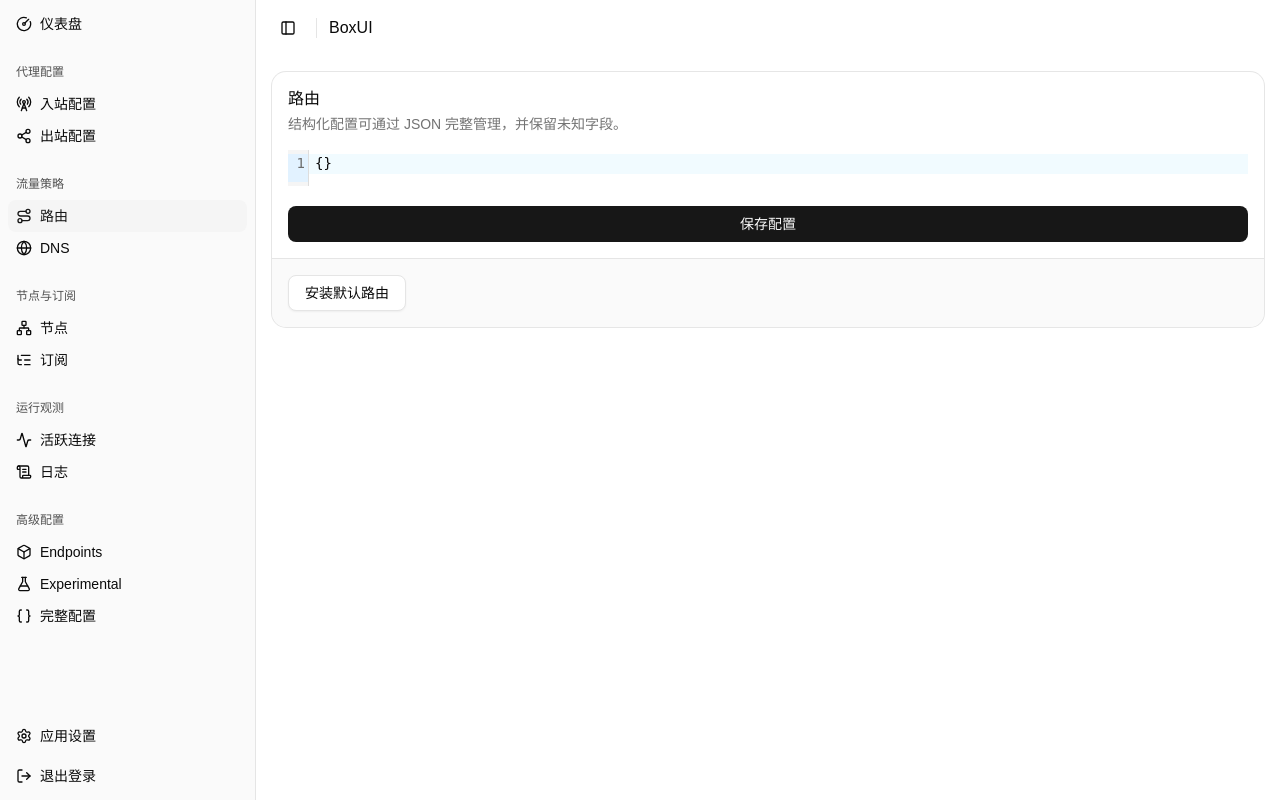
Scenario: policy save and rollback states › reports a rolled back policy save
Step 1. Click the button "保存配置" → click(768, 224), box [288, 206, 1248, 242]
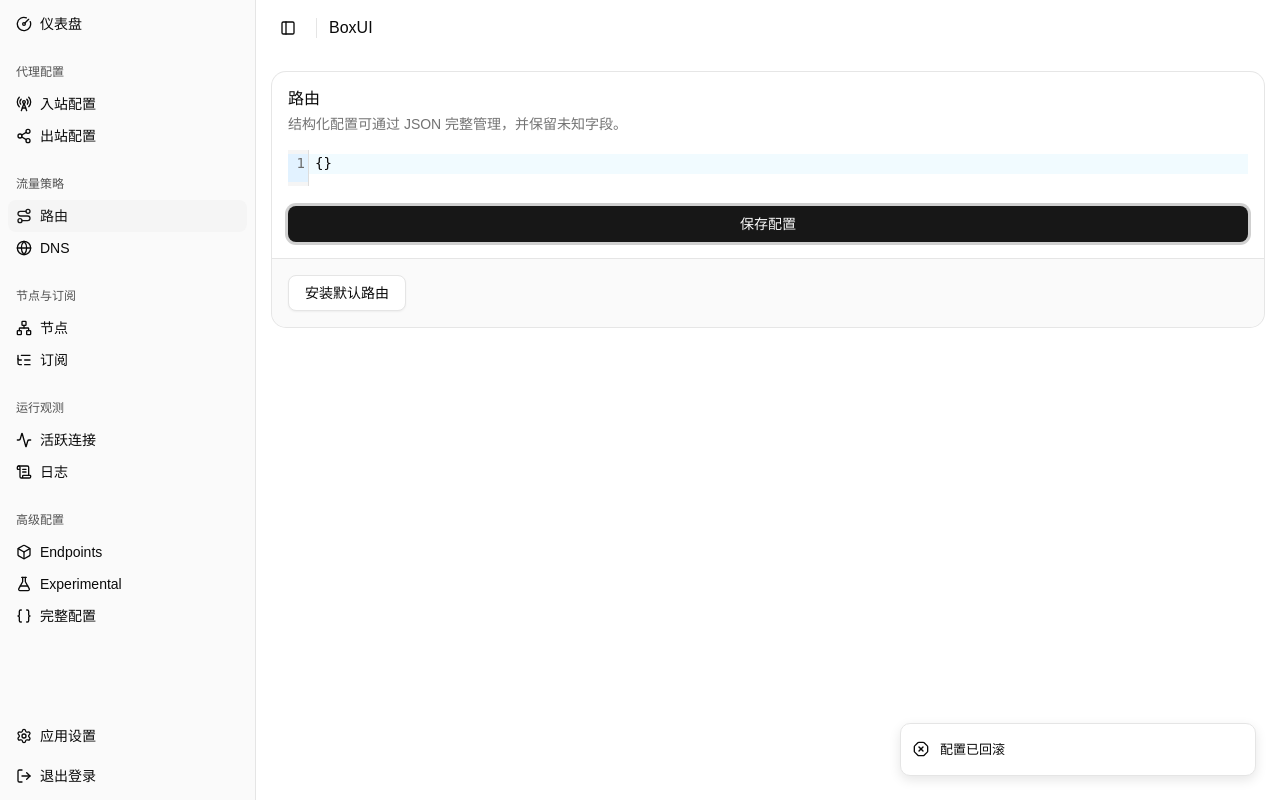
Now the text "配置已回滚" is shown, box [940, 740, 1005, 759]
